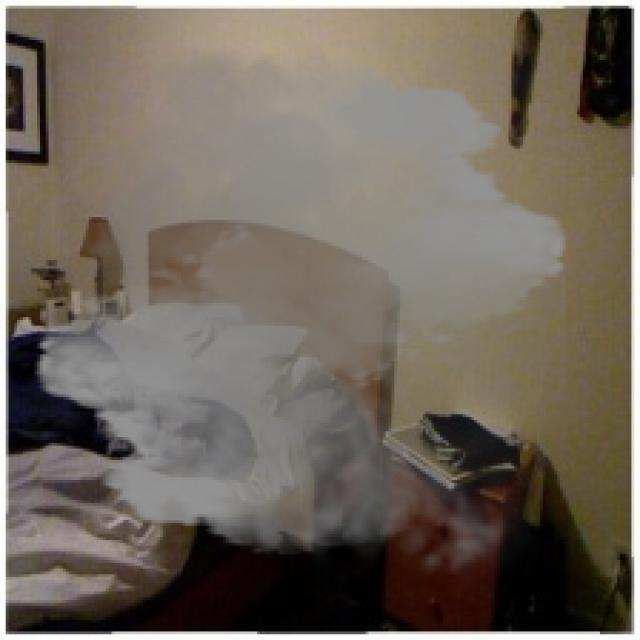Smoke: (17, 34, 586, 592)
